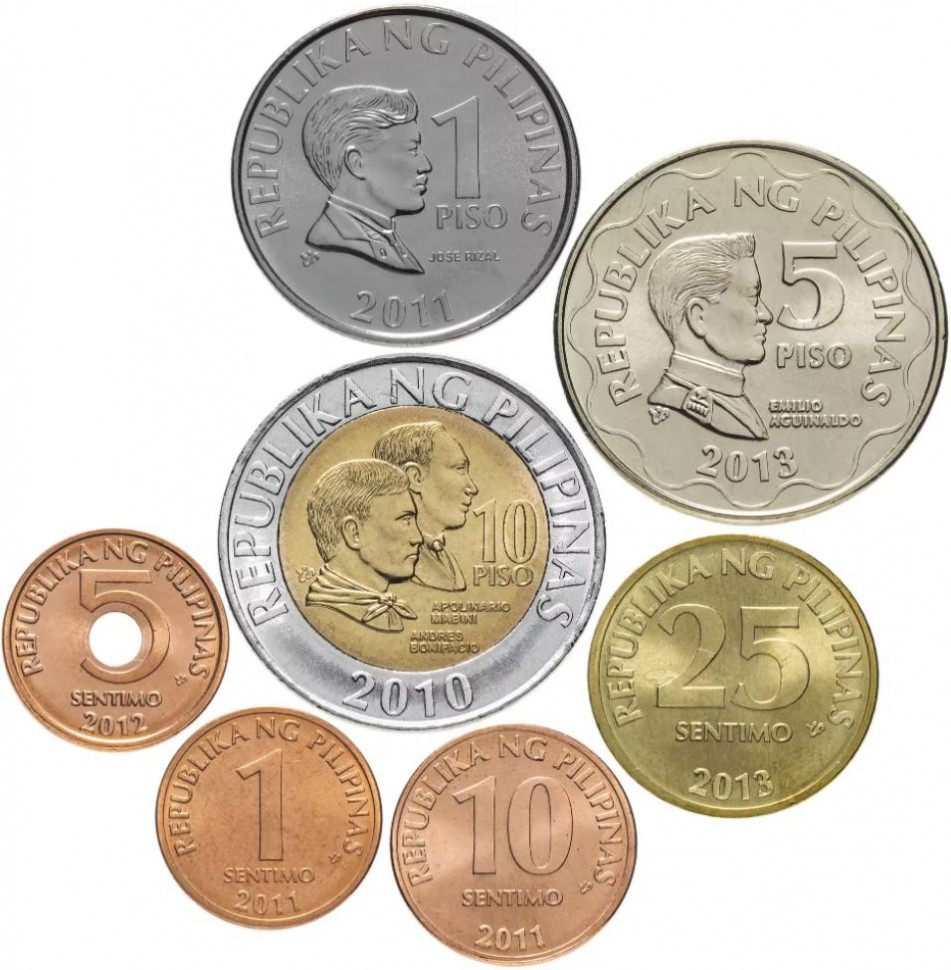coin: (551, 139, 951, 526), (217, 353, 607, 730), (231, 5, 583, 348), (587, 533, 880, 818), (390, 721, 638, 965), (1, 527, 230, 751), (154, 705, 383, 929)
